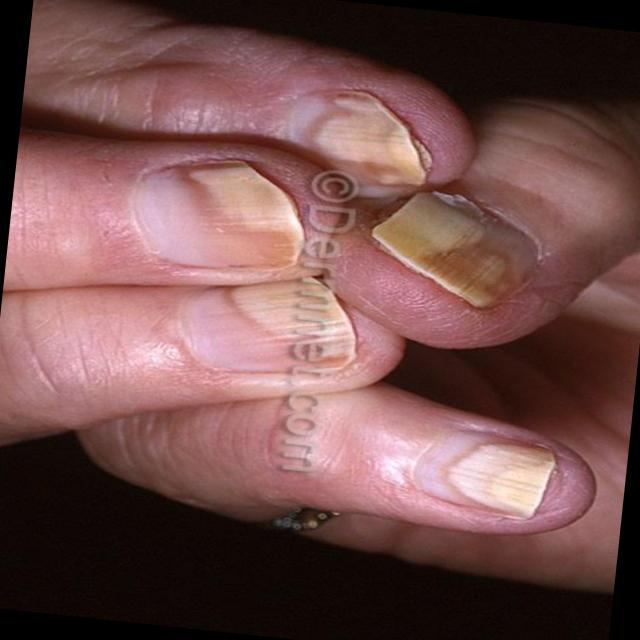Nail: (374, 187, 542, 310), (130, 161, 302, 270), (181, 275, 352, 371), (285, 88, 425, 188), (411, 430, 556, 519)
